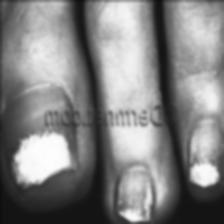Toxin: (4, 125, 80, 192)
